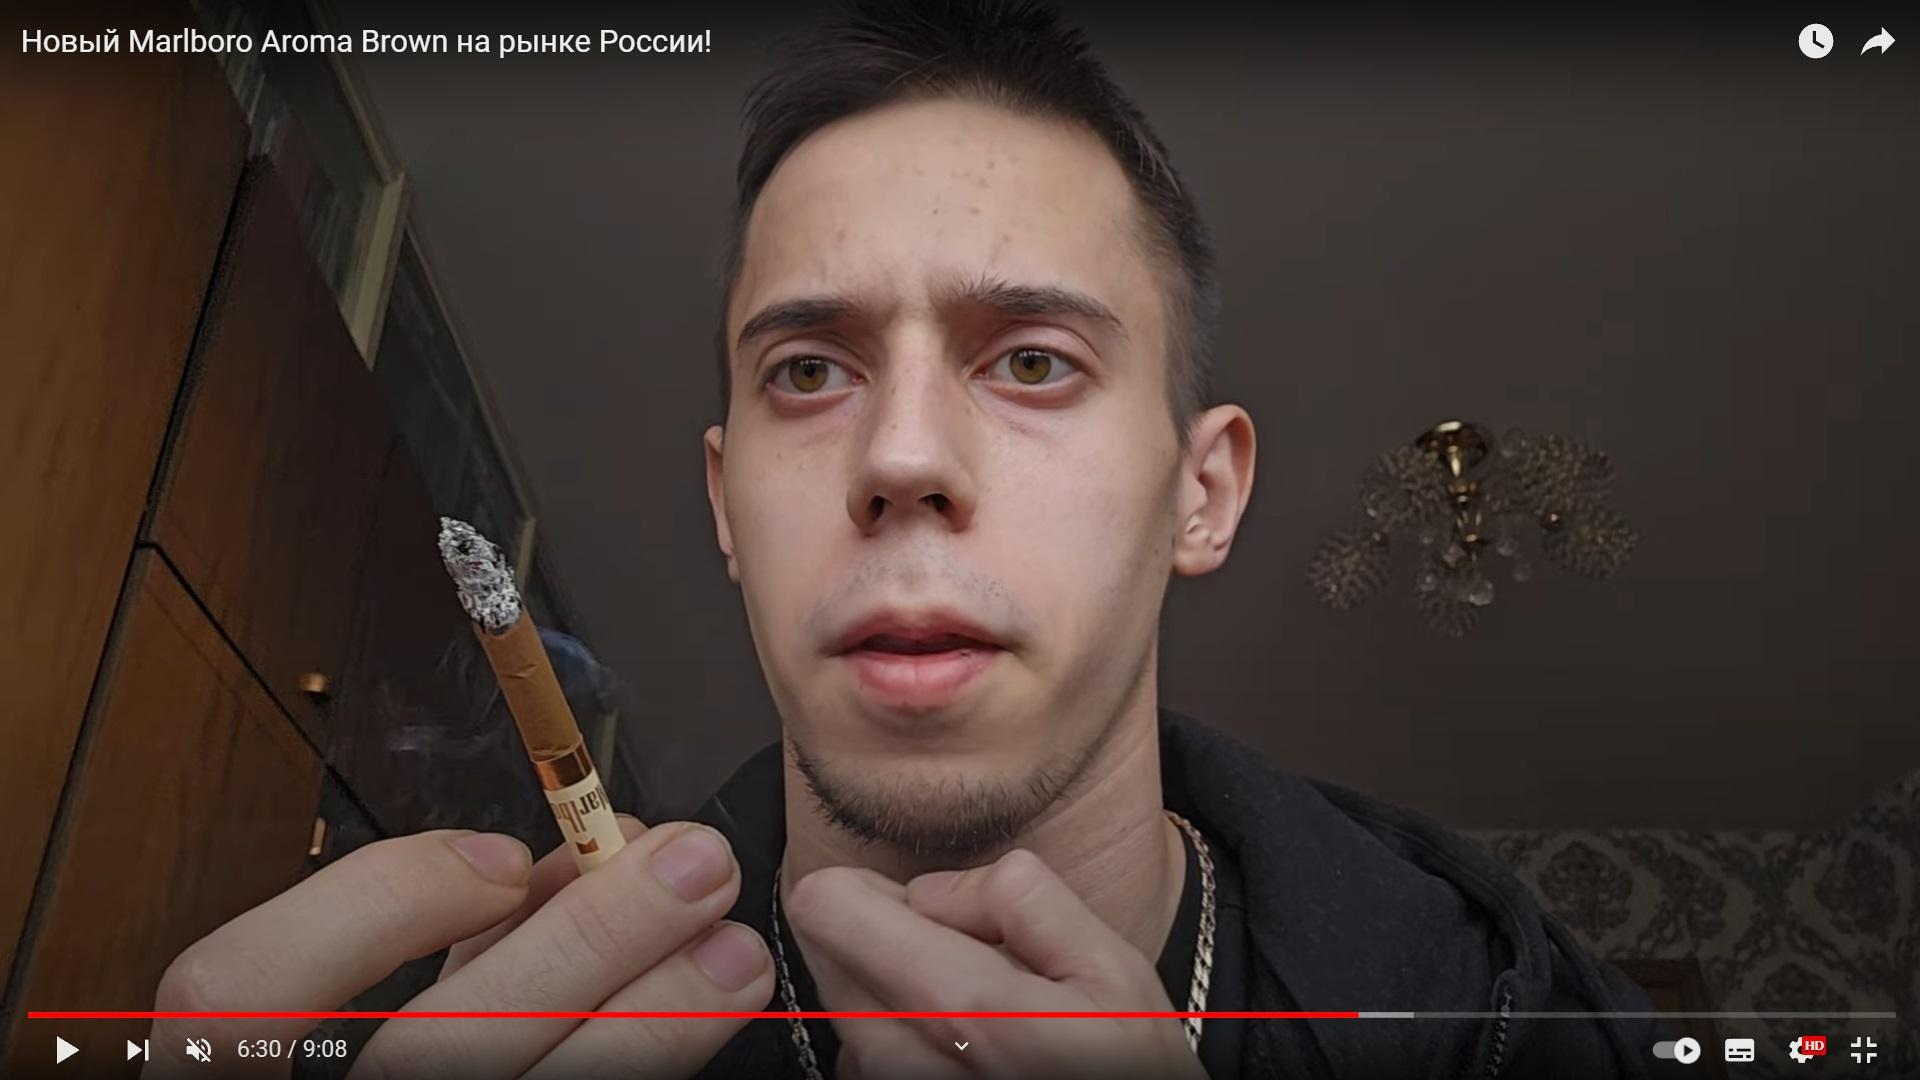cigarette: (436, 513, 629, 878)
